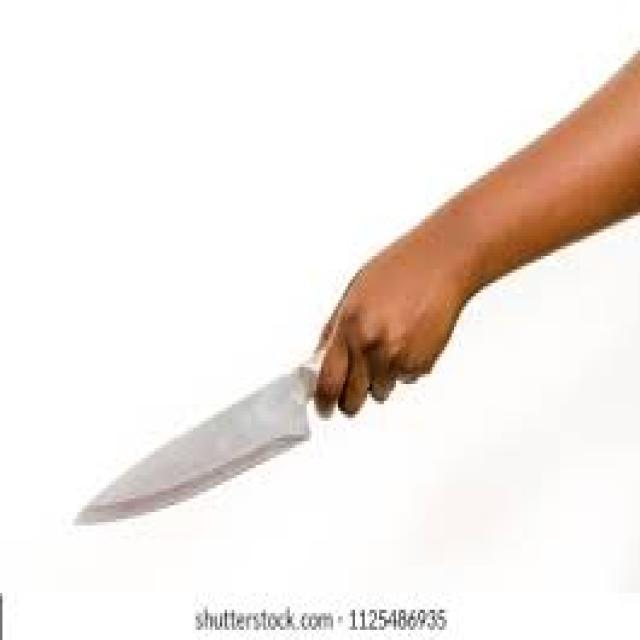faca: (63, 219, 476, 549)
